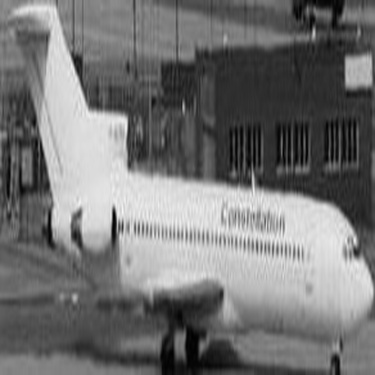airplane: (11, 4, 369, 359)
